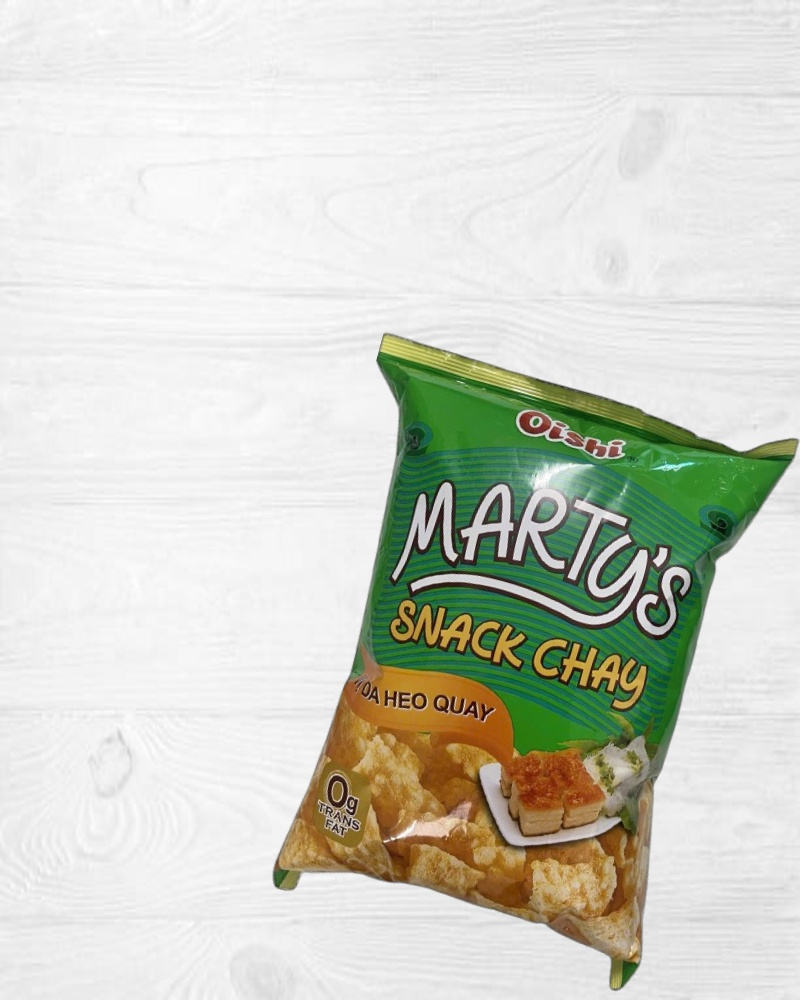Snack chay: (235, 329, 800, 1000)
